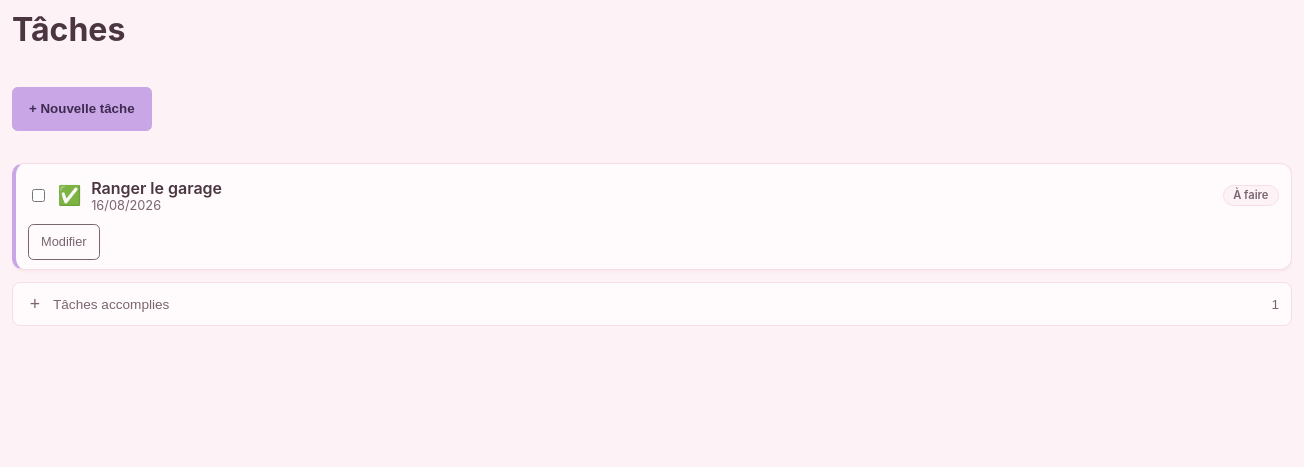
Test case: Tâches — section « Tâches accomplies » (US-041) › scénario 6 — une tâche accomplie il y a plus de 7 jours n’apparaît pas, même dépliée
Expected: the text "Ranger le garage" is shown, left=91, top=178, right=222, bottom=198
Click the button "+ Tâches accomplies 1" at x=111, y=304, box left=12, top=282, right=1292, bottom=326
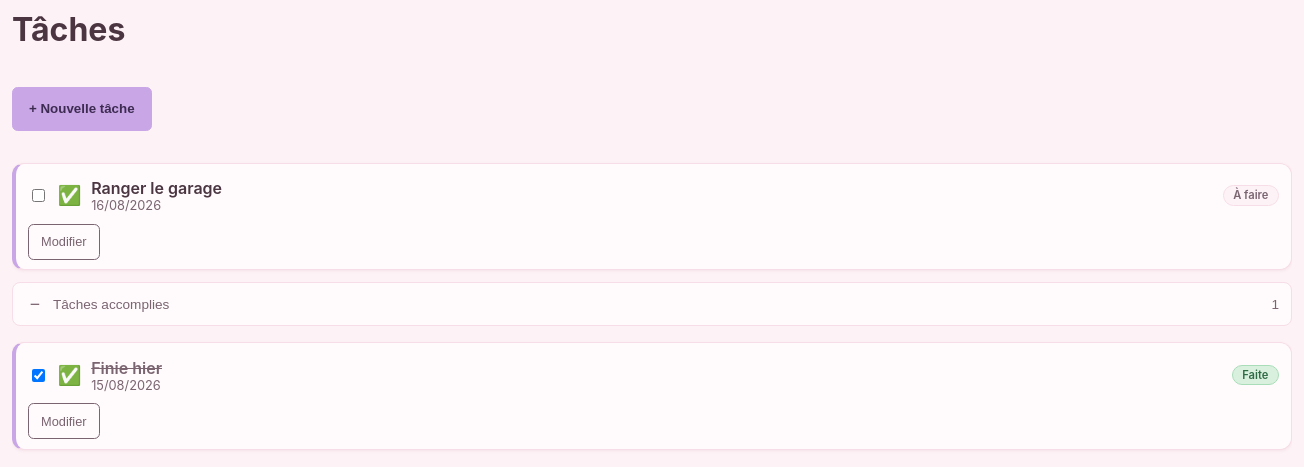
Expected: the text "Finie hier" is shown, left=91, top=358, right=162, bottom=378
